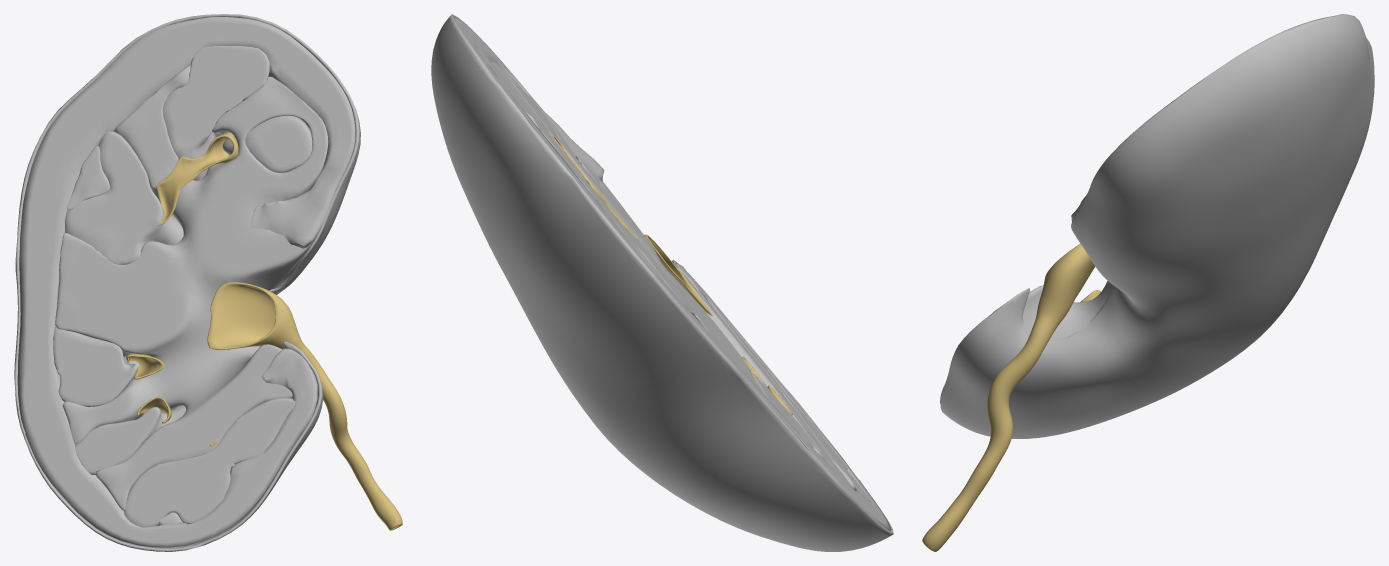
The model's file is VHF_Kidney_R_Bisect_Posterior.fbx.
3 views of the same model, side by side, from view 1: azimuth 30°, elevation 25°; view 2: azimuth 150°, elevation 25°; view 3: azimuth 270°, elevation 25° (orthographic). The views are drawn at different scales.
Parts seen in each view (by area): view 1: VHF_Kidney_R_RenalColumns_Posterior, VHF_Kidney_R_OuterCortex_Posterior, VHF_Kidney_R_Pyramids_Posterior, VHF_Kidney_R_Calyses_Posterior, VHF_Kidney_R_Capsule_Posterior; view 2: VHF_Kidney_R_Capsule_Posterior, VHF_Kidney_R_OuterCortex_Posterior, VHF_Kidney_R_RenalColumns_Posterior, VHF_Kidney_R_Pyramids_Posterior, VHF_Kidney_R_Calyses_Posterior; view 3: VHF_Kidney_R_Capsule_Posterior, VHF_Kidney_R_Calyses_Posterior, VHF_Kidney_R_RenalColumns_Posterior.
Part boxes in pixels (x1,y1,x2,y2): VHF_Kidney_R_RenalColumns_Posterior: [55, 65, 328, 525]; VHF_Kidney_R_OuterCortex_Posterior: [17, 17, 355, 547]; VHF_Kidney_R_Pyramids_Posterior: [53, 46, 312, 527]; VHF_Kidney_R_Calyses_Posterior: [126, 132, 402, 530]; VHF_Kidney_R_Capsule_Posterior: [14, 14, 360, 551]; VHF_Kidney_R_Capsule_Posterior: [431, 14, 893, 551]; VHF_Kidney_R_OuterCortex_Posterior: [454, 17, 891, 530]; VHF_Kidney_R_RenalColumns_Posterior: [491, 62, 865, 497]; VHF_Kidney_R_Pyramids_Posterior: [477, 48, 871, 502]; VHF_Kidney_R_Calyses_Posterior: [551, 136, 792, 414]; VHF_Kidney_R_Capsule_Posterior: [940, 14, 1374, 438]; VHF_Kidney_R_Calyses_Posterior: [922, 244, 1101, 551]; VHF_Kidney_R_RenalColumns_Posterior: [1023, 280, 1113, 342].
Bounding box in the file's own units: 80.47 × 100 × 80.02.
